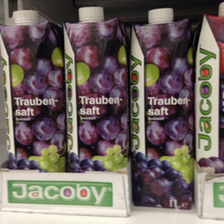juice: (129, 9, 195, 211), (63, 6, 131, 173), (1, 10, 67, 171)
